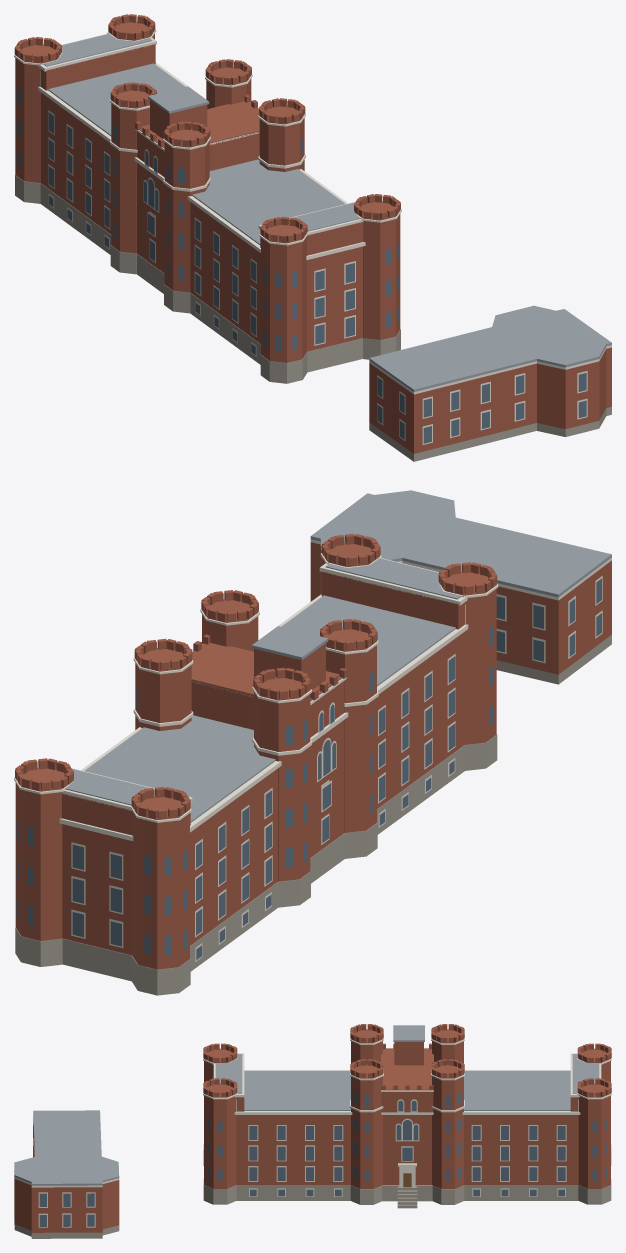
File: nyc-arsenal.glb
The picture shows the model from 3 angles, top to bottom: view 1: azimuth 30°, elevation 25°; view 2: azimuth 150°, elevation 25°; view 3: azimuth 270°, elevation 25°; orthographic projection. The views are drawn at different scales.
Visible parts, largest first — view 1: The Arsenal; view 2: The Arsenal; view 3: The Arsenal.
Part boxes in pixels (bbox=[...]): The Arsenal: bbox=[14, 14, 611, 461]; The Arsenal: bbox=[14, 490, 611, 995]; The Arsenal: bbox=[14, 1024, 611, 1238].
Bounding box in the file's own units: 29.67 × 22.7 × 89.77.
